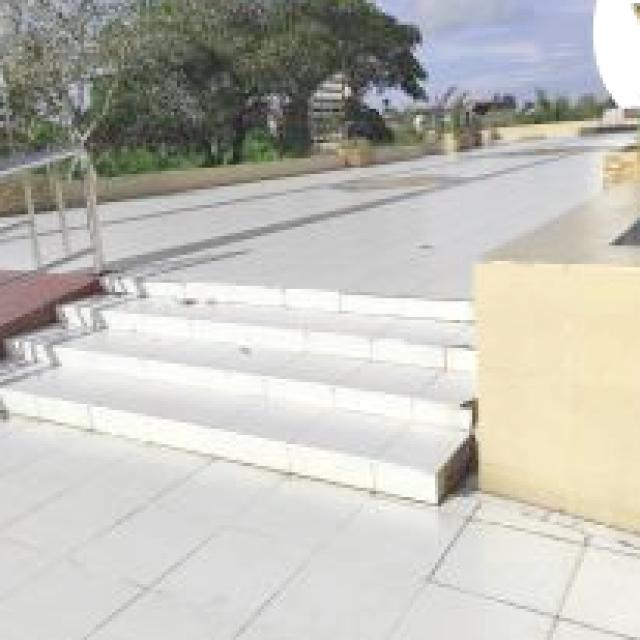upstair: (94, 262, 461, 507)
